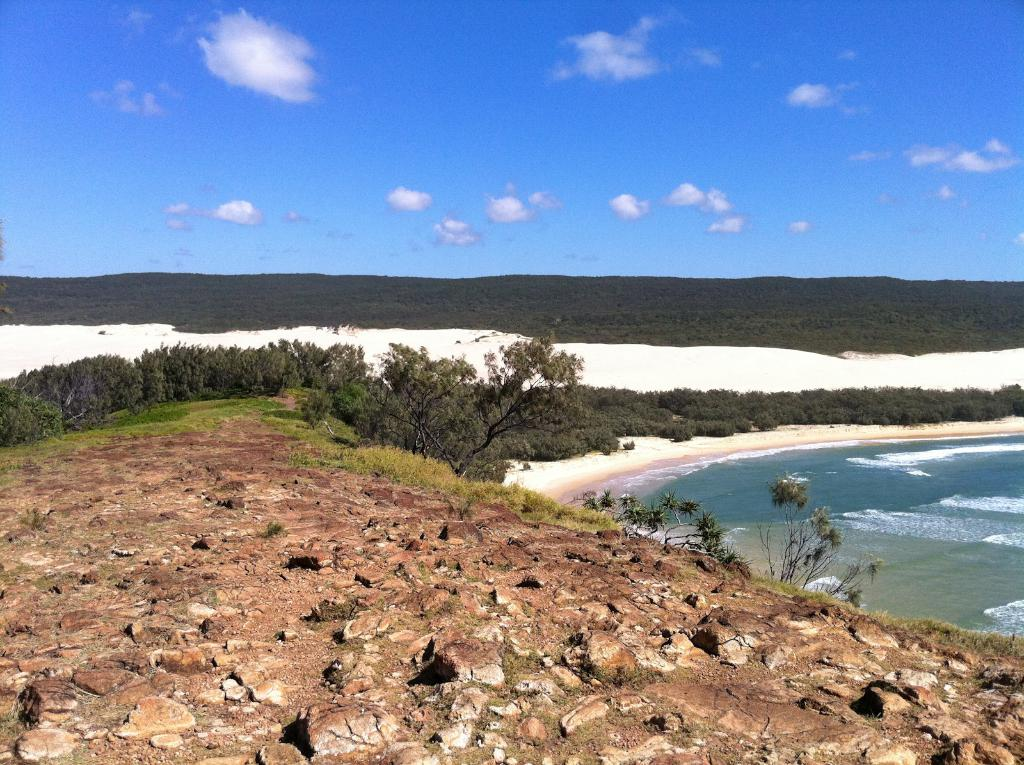Tree: (411, 335, 583, 480), (145, 336, 362, 410), (0, 354, 143, 463), (372, 332, 478, 447)
